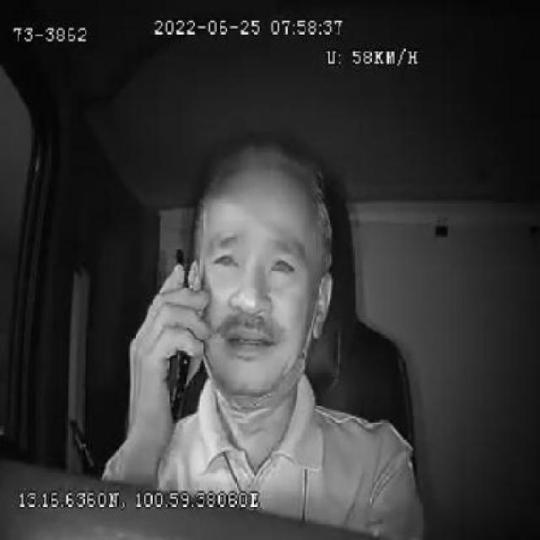phone: (164, 247, 193, 426)
